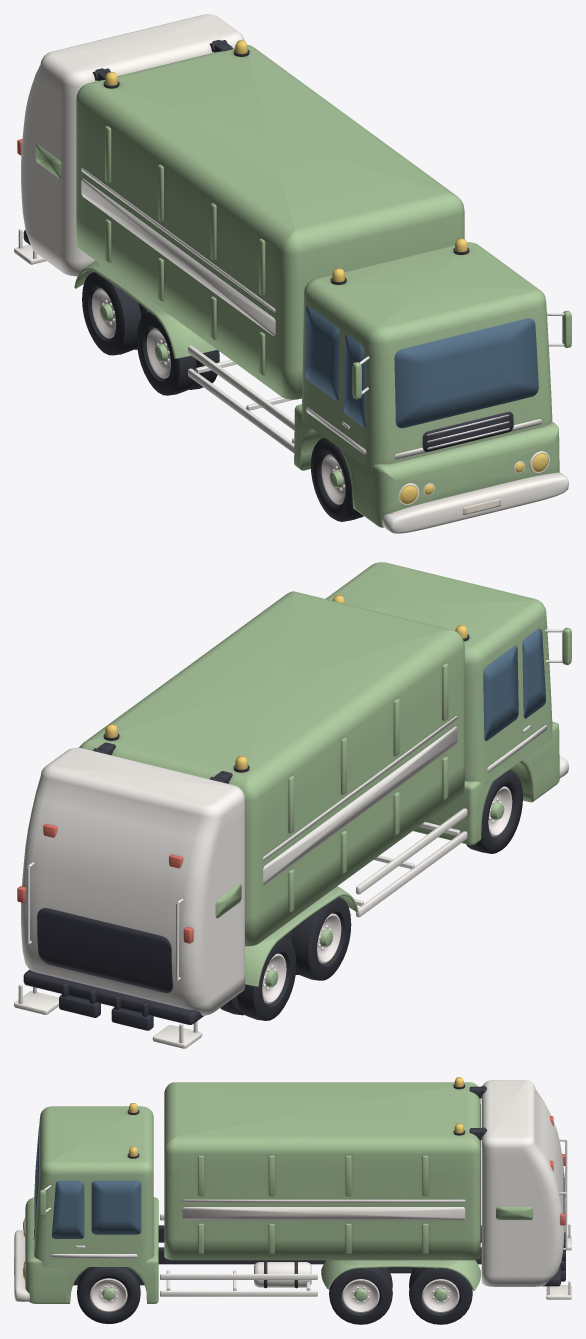
The model's file is garbage-truck.glb.
3 views of the same model, one above another, from view 1: azimuth 30°, elevation 25°; view 2: azimuth 150°, elevation 25°; view 3: azimuth 270°, elevation 25° (orthographic). The views are drawn at different scales.
Visible parts, largest first — view 1: garbage-truck_body, garbage-truck_tailgate, garbage-truck_windows, garbage-truck_wheel_r2r, garbage-truck_wheel_r1r, garbage-truck_wheel_fr, garbage-truck_headlights; view 2: garbage-truck_body, garbage-truck_tailgate, garbage-truck_windows, garbage-truck_wheel_r1r, garbage-truck_wheel_r2r, garbage-truck_wheel_fr; view 3: garbage-truck_body, garbage-truck_tailgate, garbage-truck_windows, garbage-truck_wheel_fl, garbage-truck_wheel_r2l, garbage-truck_wheel_r1l.
Part boxes in pixels (x1=…): garbage-truck_body: x1=74, y1=40, x2=571, y2=533; garbage-truck_tailgate: x1=14, y1=14, x2=244, y2=276; garbage-truck_windows: x1=304, y1=306, x2=538, y2=428; garbage-truck_wheel_r2r: x1=82, y1=272, x2=149, y2=355; garbage-truck_wheel_r1r: x1=137, y1=312, x2=219, y2=395; garbage-truck_wheel_fr: x1=310, y1=437, x2=363, y2=521; garbage-truck_headlights: x1=398, y1=451, x2=549, y2=505; garbage-truck_body: x1=79, y1=562, x2=571, y2=986; garbage-truck_tailgate: x1=14, y1=747, x2=244, y2=1048; garbage-truck_windows: x1=483, y1=628, x2=545, y2=740; garbage-truck_wheel_r1r: x1=284, y1=897, x2=351, y2=980; garbage-truck_wheel_r2r: x1=220, y1=937, x2=296, y2=1020; garbage-truck_wheel_fr: x1=466, y1=769, x2=522, y2=853; garbage-truck_body: x1=14, y1=1077, x2=481, y2=1303; garbage-truck_tailgate: x1=480, y1=1080, x2=571, y2=1299; garbage-truck_windows: x1=35, y1=1126, x2=141, y2=1238; garbage-truck_wheel_fl: x1=77, y1=1267, x2=140, y2=1323; garbage-truck_wheel_r2l: x1=409, y1=1267, x2=472, y2=1324; garbage-truck_wheel_r1l: x1=329, y1=1267, x2=392, y2=1324.
Bounding box in the file's own units: 2.96 × 3.48 × 9.08.
Materials: 3 (3 with a texture image).
